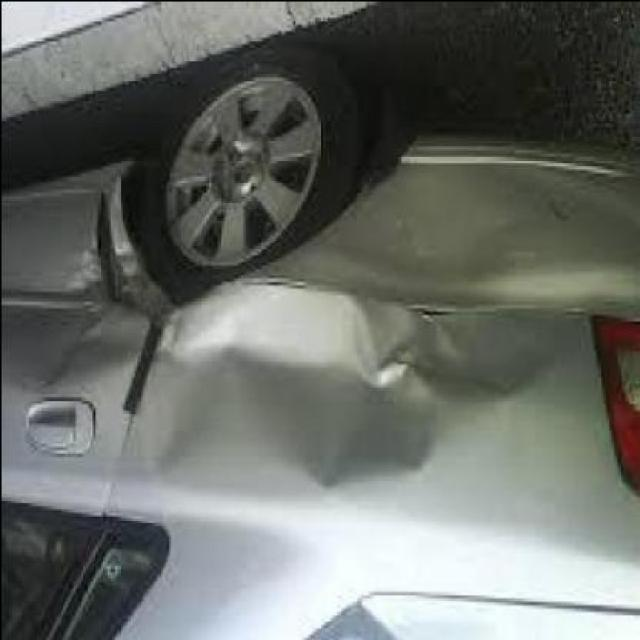damage: (33, 140, 563, 499)
